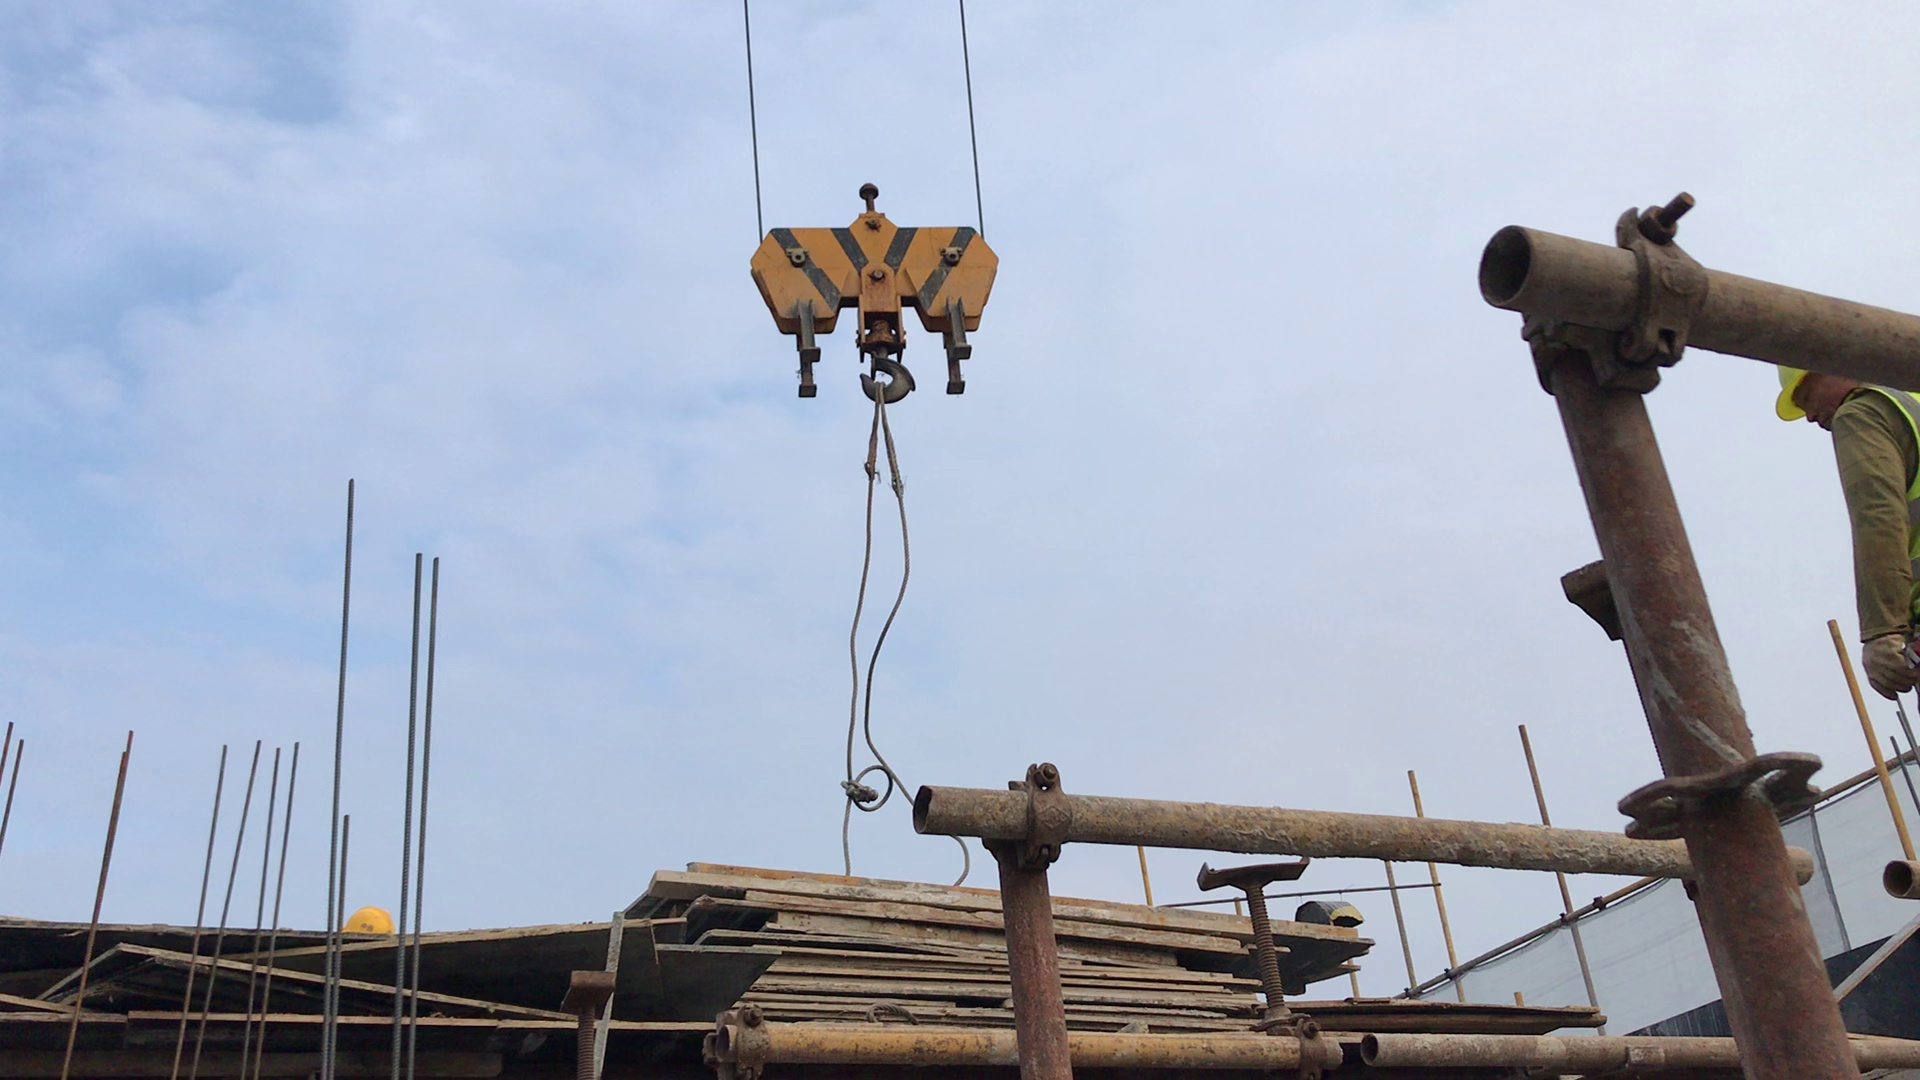board: (638, 860, 1374, 1026)
helmet: (340, 905, 393, 934)
hook: (745, 171, 1009, 407)
